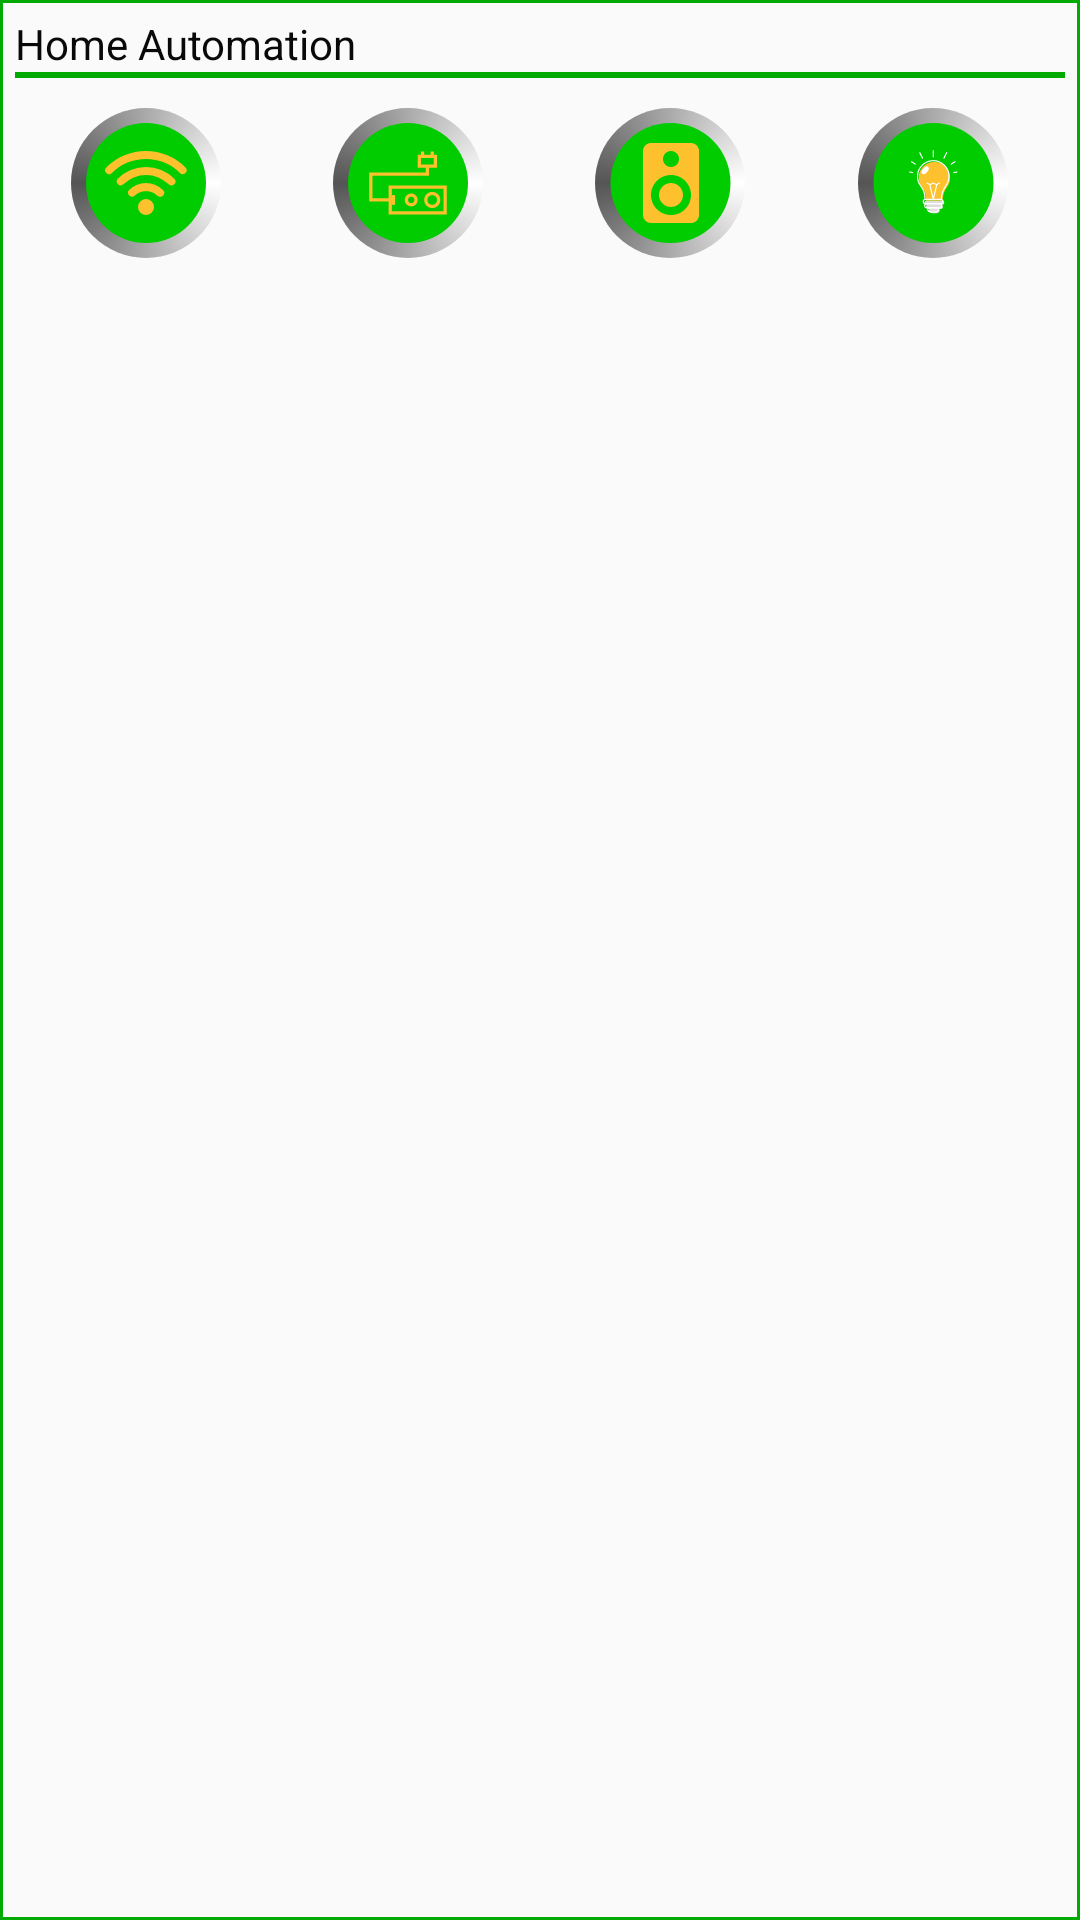

Icons on this 1080 x 1920 Android screen, each with the point to tap as [x,y]:
bulb: [927,183]
extension: [402,183]
speaker: [664,183]
wifi: [140,183]
